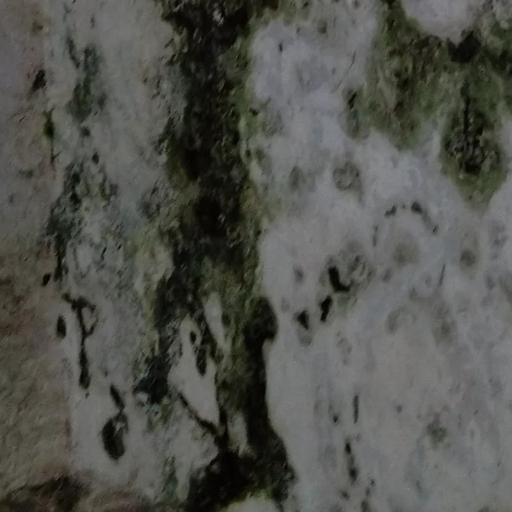algae: (104, 0, 362, 512)
